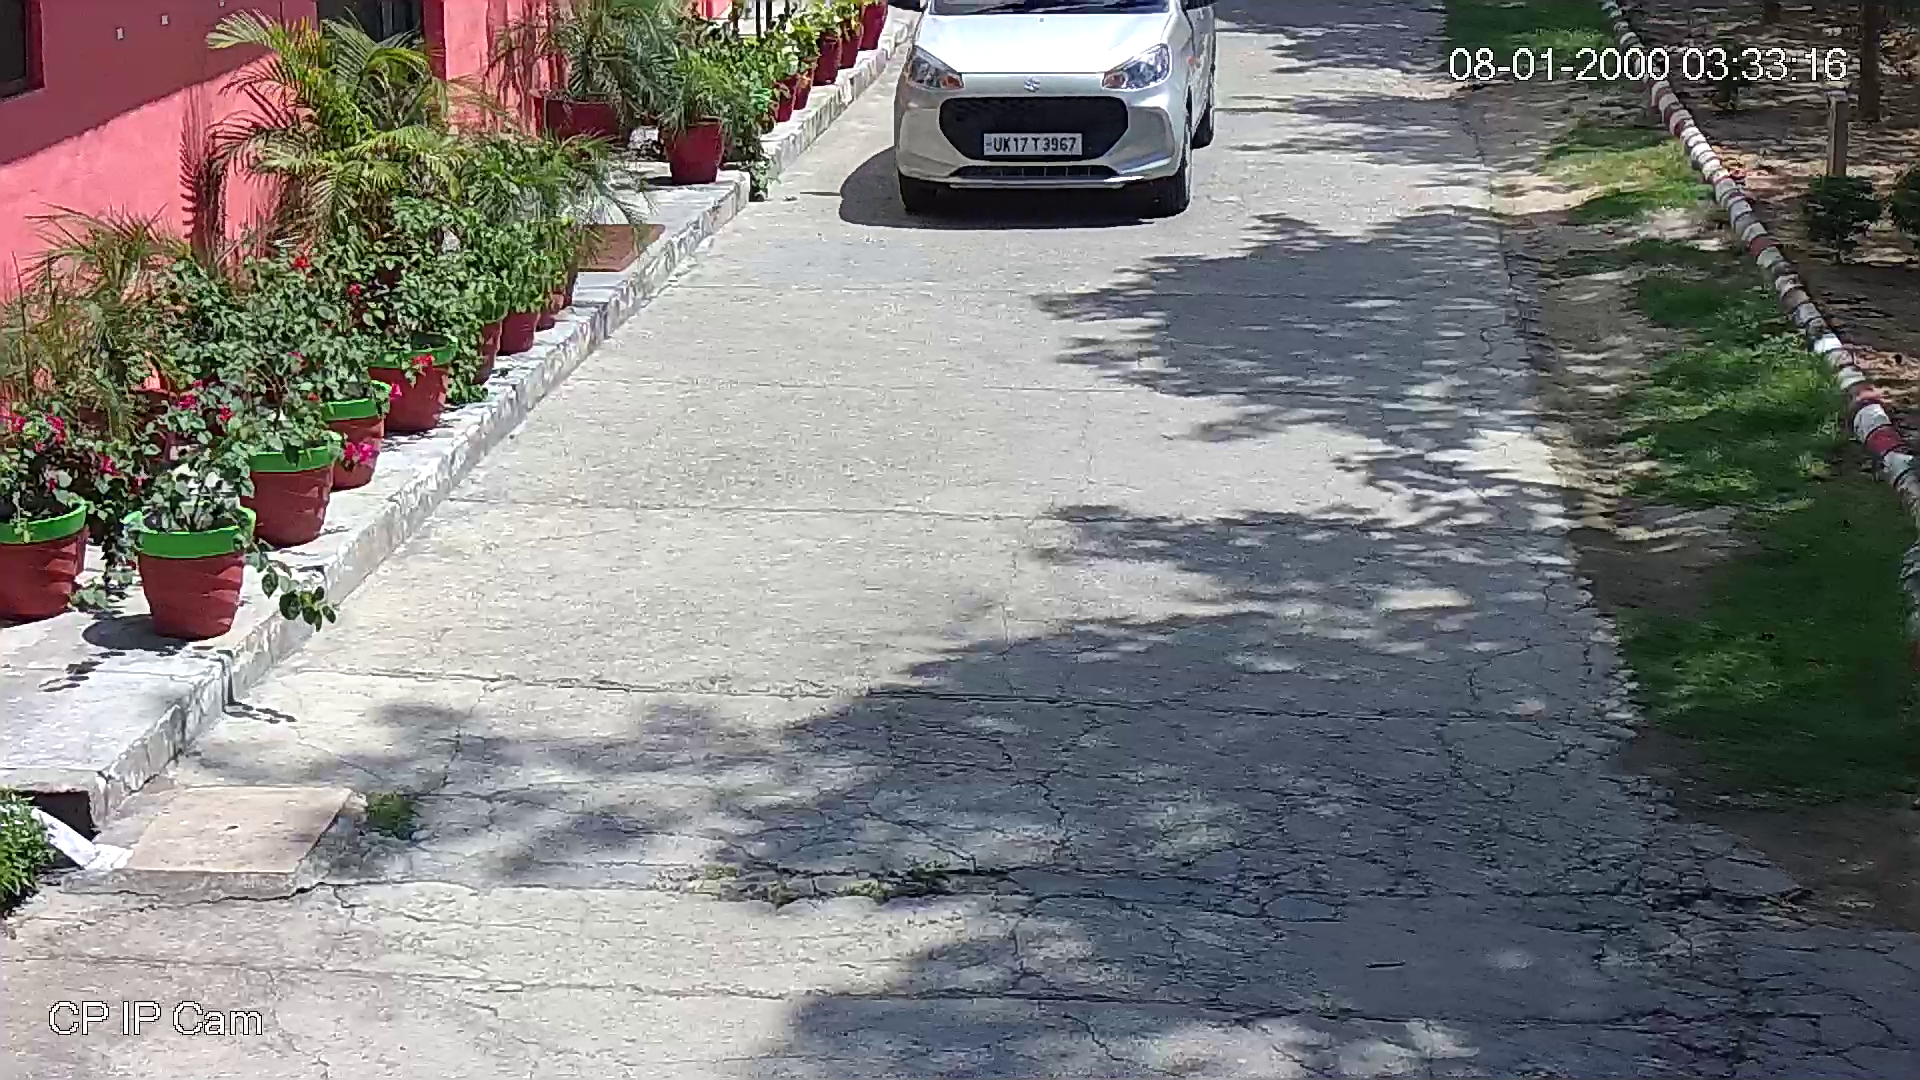plate: (976, 124, 1086, 166)
